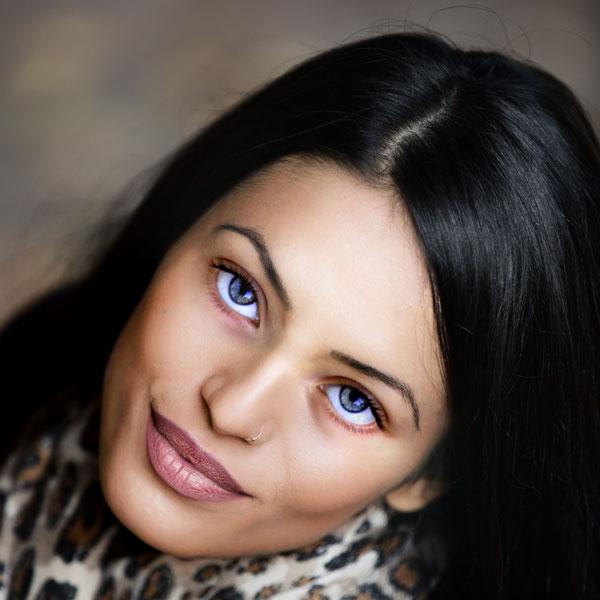Eyes: (302, 363, 394, 444), (195, 246, 274, 336)
